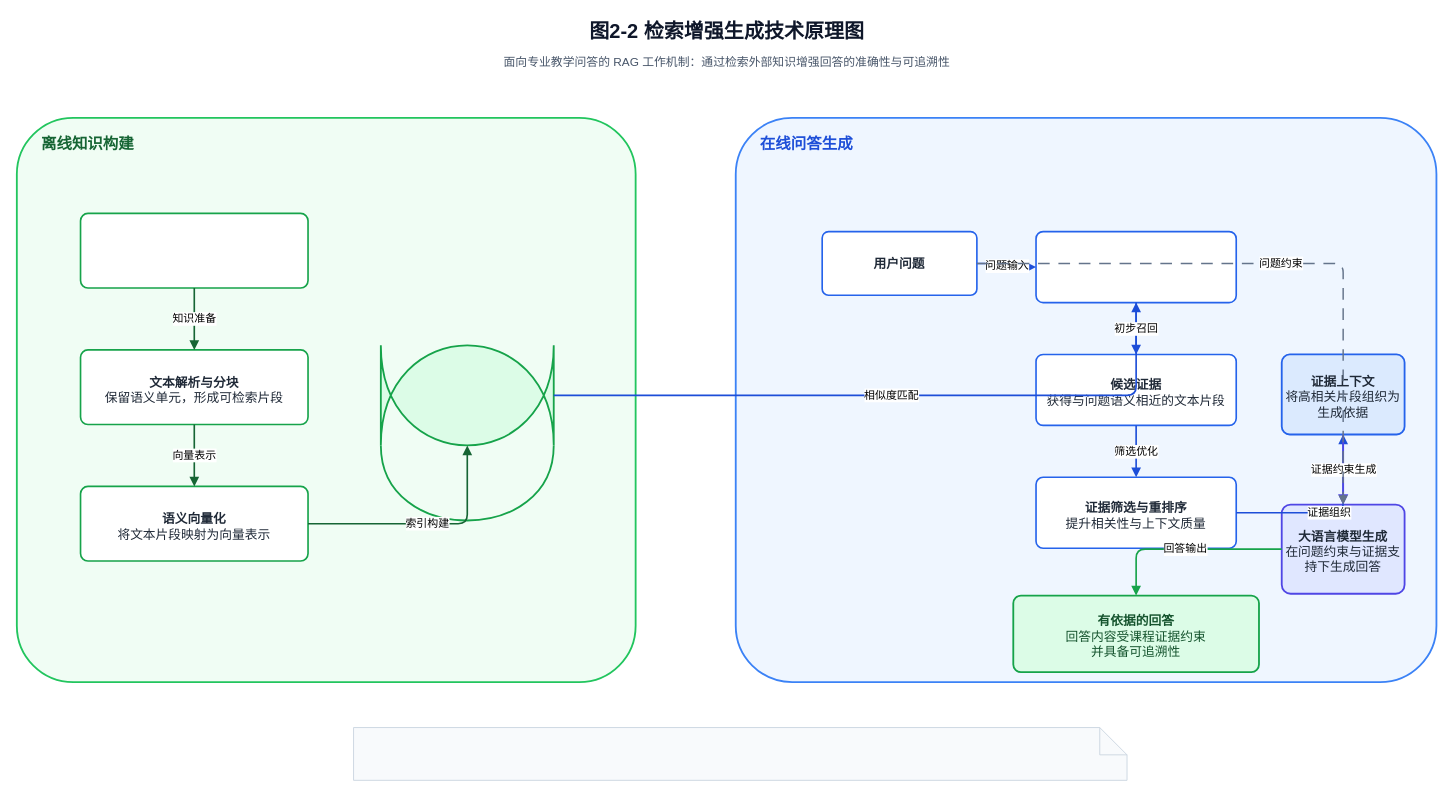
The diagram is 1452 pixels wide and 796 high, and some of its shapes have lost their labels. The shapes that lost their labels are listed below. From the top down, each one's centre as x and y in pixels, then its label:
At (193,250): "课程知识源 实验指导书 / 教学资料 / 规范文本".
At (1136,266): "语义检索 从知识索引中召回相关片段".
At (466,395): "知识索引 构建可供语义检索的知识库".
At (740,753): "注：左侧表示知识准备过程，右侧表示在线问答过程。RAG 的关键在于以检索证据约束生成，而非仅依赖模型参数记忆。".
